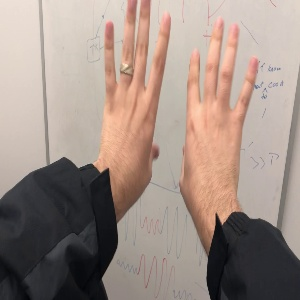hand: (180, 19, 259, 205), (104, 2, 157, 171)
